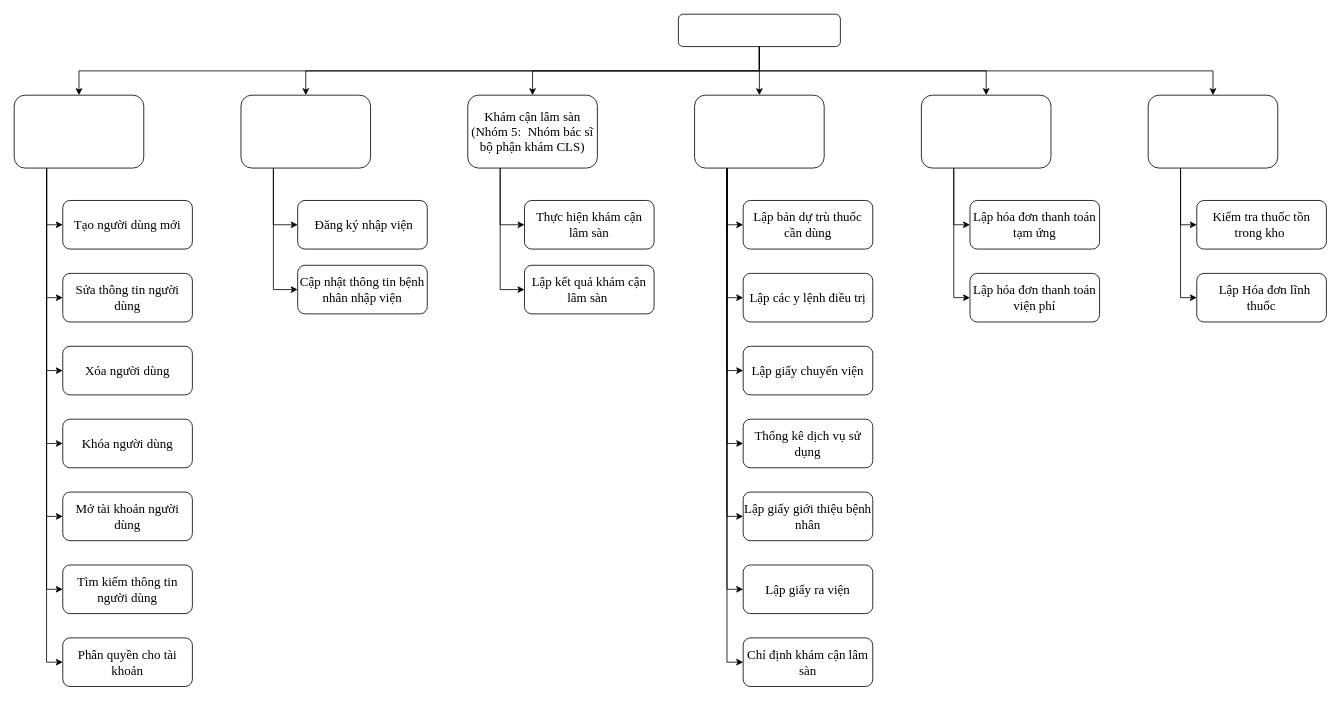
Some shapes in this 1341 by 701 pixel diagram are drawn without their labels. The centre of each missing label's shape, as x and y in pixels:
"Cấp phát thuốc (Nhóm 3: Nhóm nhân viên bộ phân quầy thuốc)" belongs at (x=1212, y=131).
"Quản lý khám bệnh nội trú" belongs at (x=759, y=30).
"Quản trị người dùng (Nhóm 6)" belongs at (x=78, y=131).
"Thanh toán (Nhóm 4: Nhóm nhân viên bộ phận thanh toán)" belongs at (x=986, y=131).
"Điều trị chuyên khoa (Nhóm 2: Nhóm bác sĩ bộ phận điều trị chuyên khoa)" belongs at (x=759, y=131).
"Đăng ký nhập viện (Nhóm 1: Nhóm nhân viên bộ phận tiếp đón bệnh nhân)" belongs at (x=305, y=131).
